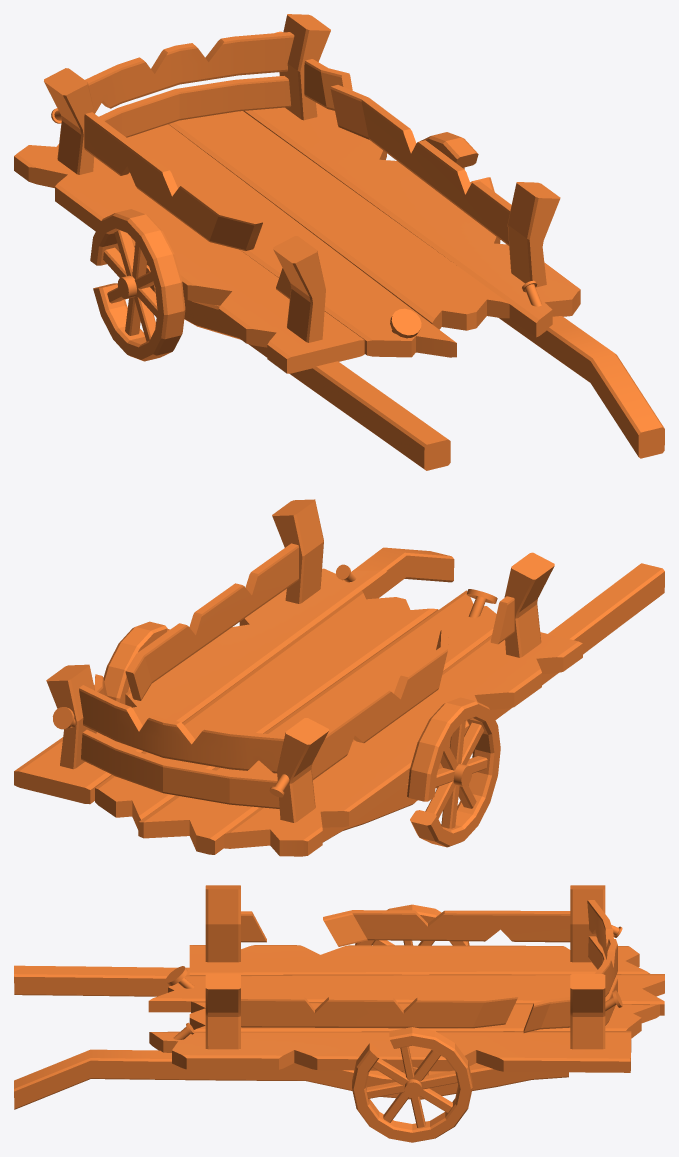
Rendered from Carro_a-1.fbx.
3 views of the same model, one above another, from view 1: azimuth 30°, elevation 25°; view 2: azimuth 150°, elevation 25°; view 3: azimuth 270°, elevation 25° (orthographic). The views are drawn at different scales.
Visible parts, largest first — view 1: Carroça-1; view 2: Carroça-1; view 3: Carroça-1.
Part boxes in pixels (<box>): Carroça-1: <box>14,14,664,470</box>; Carroça-1: <box>14,499,664,856</box>; Carroça-1: <box>14,885,664,1142</box>.
Bounding box in the file's own units: 191 × 98.56 × 394.
